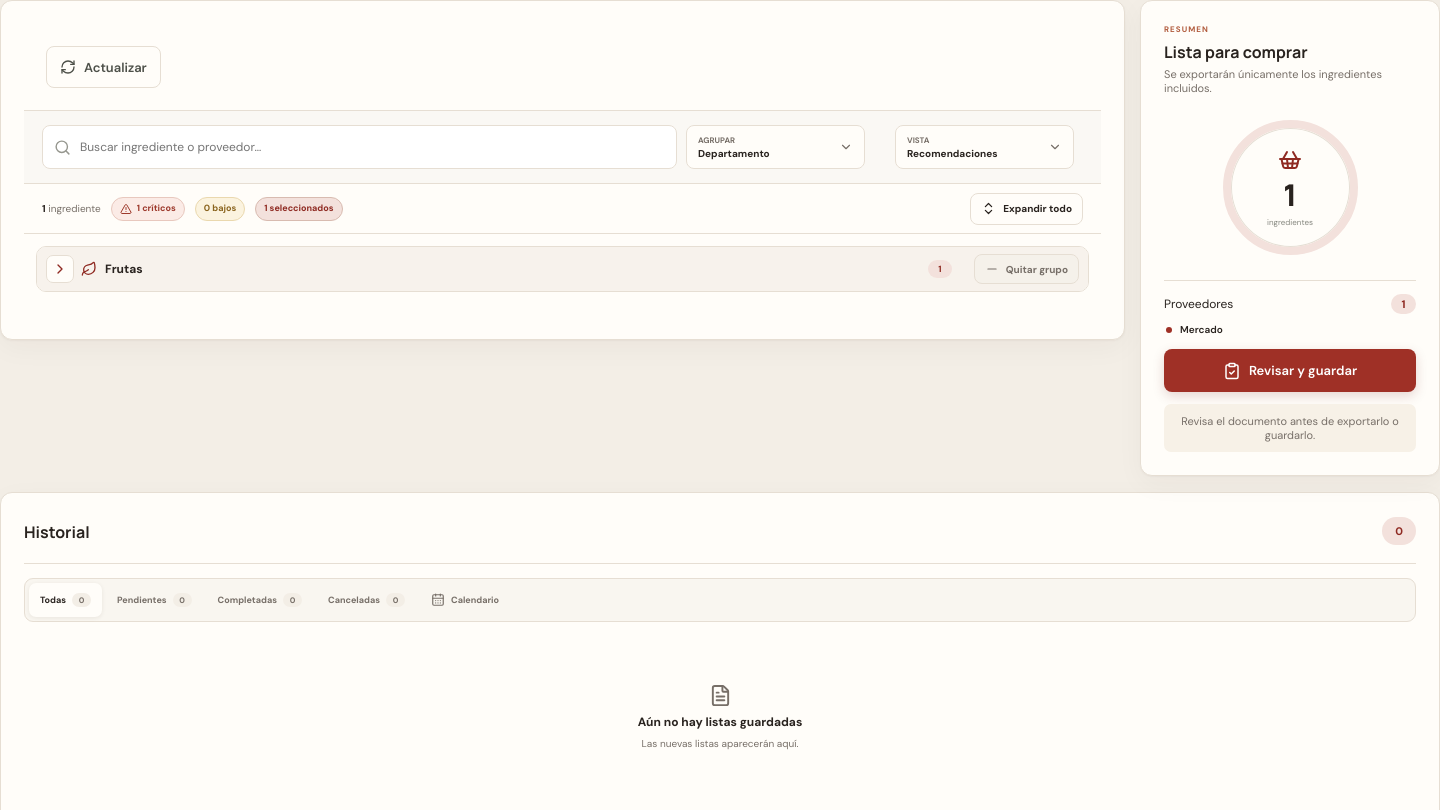
ShoppingPage purchase receipt review › expands and collapses every recommendation group from one control
Click the button with aria-label "Expandir todos los grupos": (1027, 208) [970,192,1083,224]
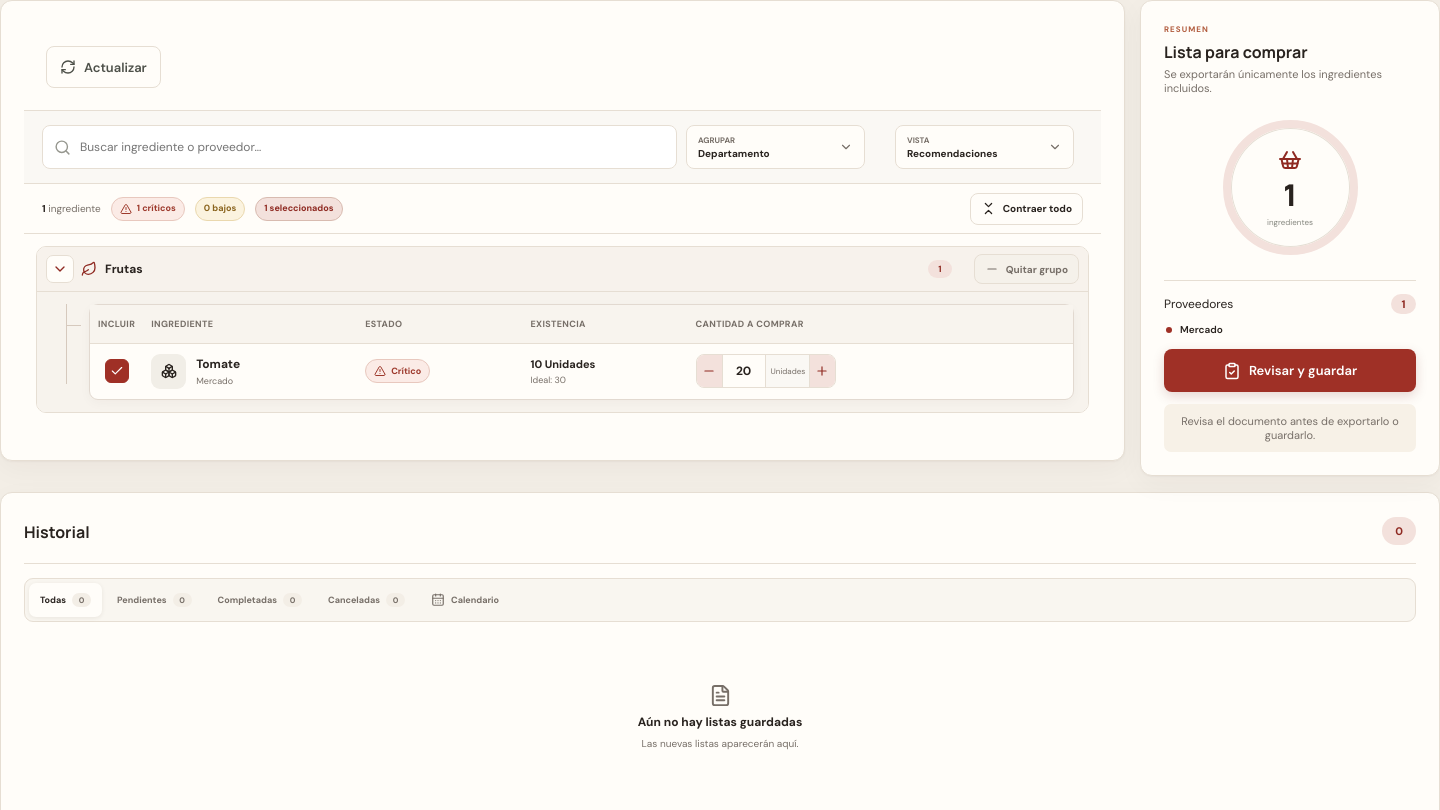
Now the button with aria-label "Frutas, 1 ingrediente" is expanded, box [37,247,966,291]
Now the button with aria-label "Contraer todos los grupos" is shown
Click the button with aria-label "Contraer todos los grupos": (1026, 208) [970,192,1083,224]
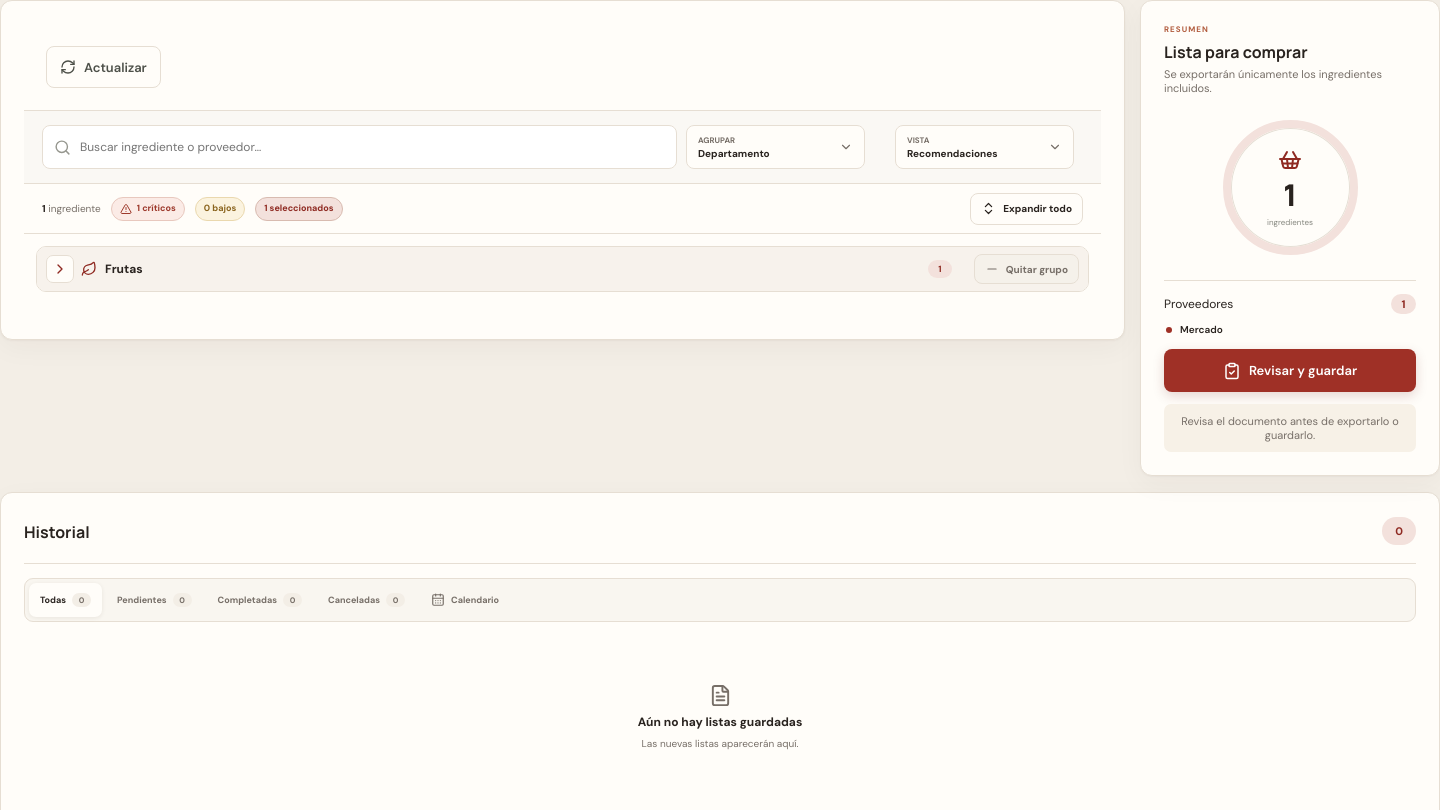
Now the button with aria-label "Frutas, 1 ingrediente" is collapsed, box [37,247,966,291]
